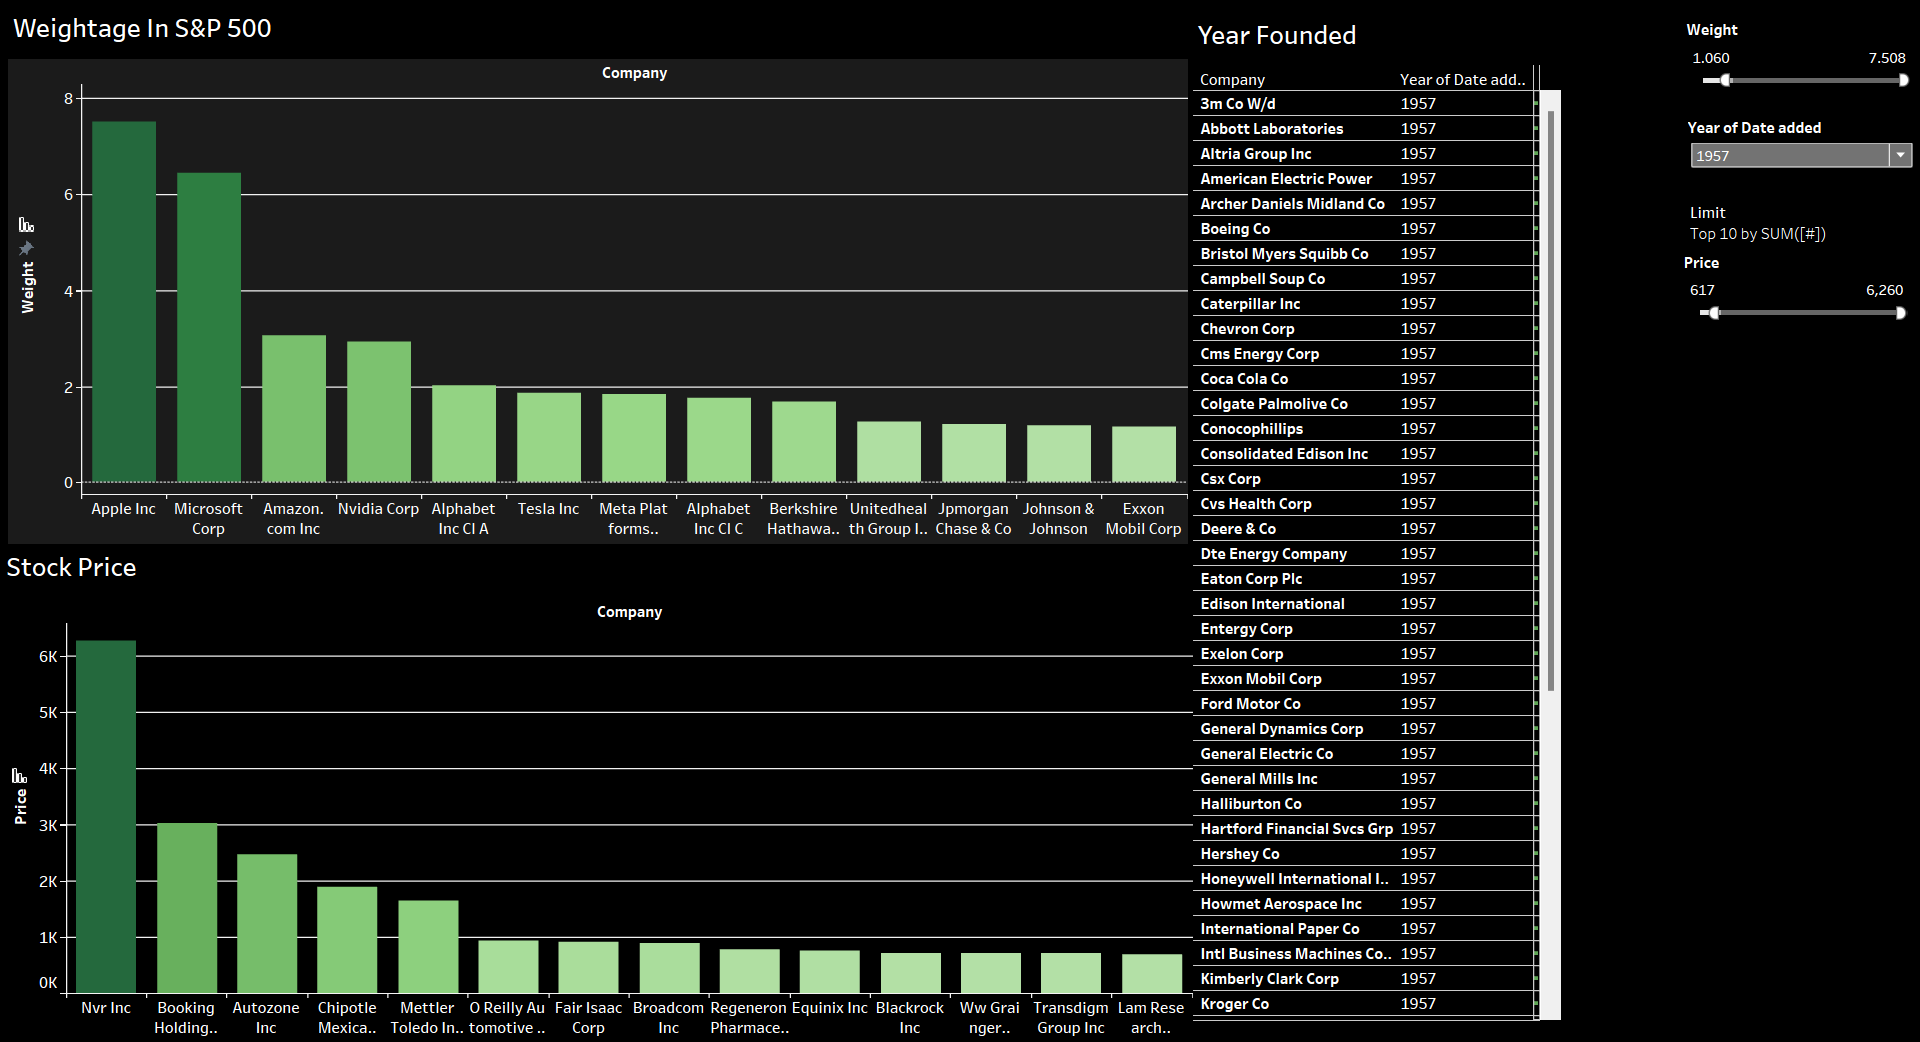

This screenshot's page, from the dashboard's own definition file:
{"tool":"tableau","page":{"name":"Dashboard 2","canvas":[1000,1000],"units":"permille","ordinal":1},"visuals":[{"type":"worksheet","title":"Weightage","mark":"Automatic","rows":["Weight"],"cols":["Company"],"box":[2.2,1.5,618.3,524.3]},{"type":"filter","title":"Weightage","param":"[federated.14ze7cv0ymnfo51cnoy5i0o10na1].[sum:Weight:qk]","box":[878,17.7,119,89.8]},{"type":"filter","title":"founded","param":"[federated.14ze7cv0ymnfo51cnoy5i0o10na1].[yr:Date added:ok]","box":[878.7,111.9,119,126.7]},{"type":"filter","title":"Stock Price","param":"[federated.14ze7cv0ymnfo51cnoy5i0o10na1].[sum:Price:qk]","box":[877.2,241.5,119,89.8]},{"type":"worksheet","title":"Stock Price","mark":"Automatic","rows":["Price"],"cols":["Company"],"box":[0.7,521.4,620.5,478.7]}]}

Visuals, with their boxes on the dashboard's canvas, which has no fixed pixel size, in thousandths of its width and height (x1, y1, x2, y2). These are canvas units, not pixel positions in the 1920x1042 screenshot, which may show the page scaled, cropped or inside an application window:
"Weightage" worksheet: region(2, 2, 620, 526)
"Weightage" filter: region(878, 18, 997, 108)
"founded" filter: region(879, 112, 998, 239)
"Stock Price" filter: region(877, 242, 996, 331)
"Stock Price" worksheet: region(1, 521, 621, 1000)
